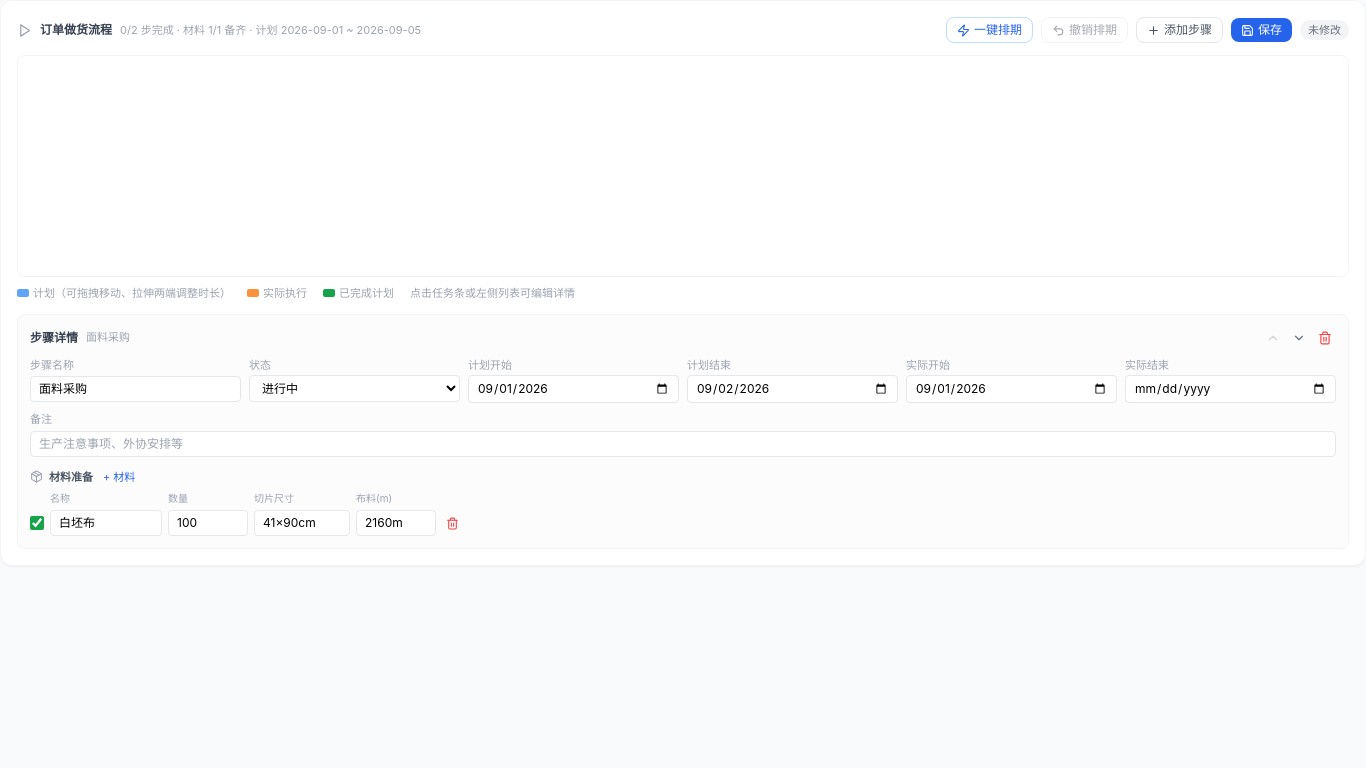
Test: 订单做货流程标签页 › 任务详情编辑 › 填写实际开始时间后状态联动为进行中
The width and height of the screenshot is (1366, 768).
Expected: the text "计划（可拖拽移动、拉伸两端调整时长）" is shown, [17,285,231,302]
// 清空实际开始 → 状态回退未开始
Step 1. Clear the date field below "实际开始" → (1012, 389), box [906,375,1117,403]
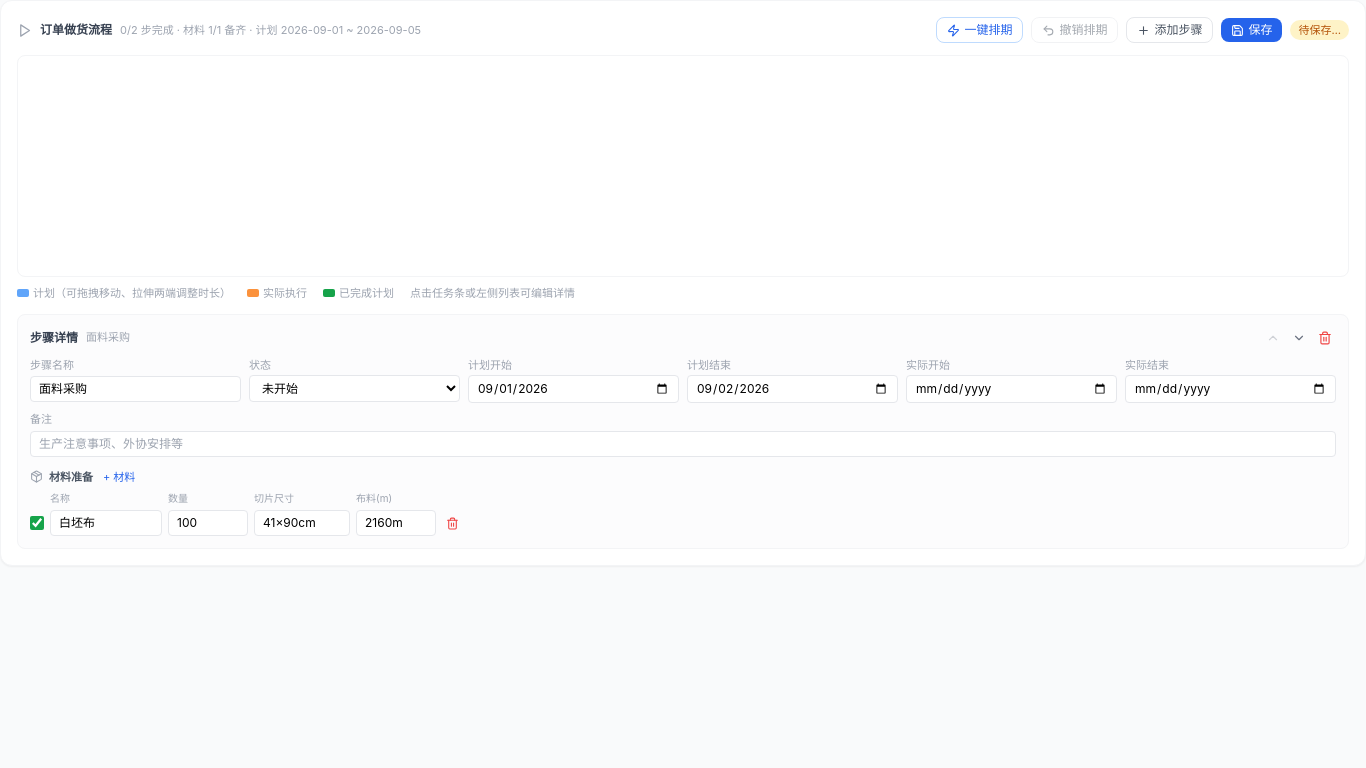
Now the dropdown showing "未开始" shows "未开始", box [249,375,460,402]
// 重新填写 → 状态联动为进行中
Step 2. Type "2026-09-02" into the date field below "实际开始" → (1012, 389), box [906,375,1117,403]
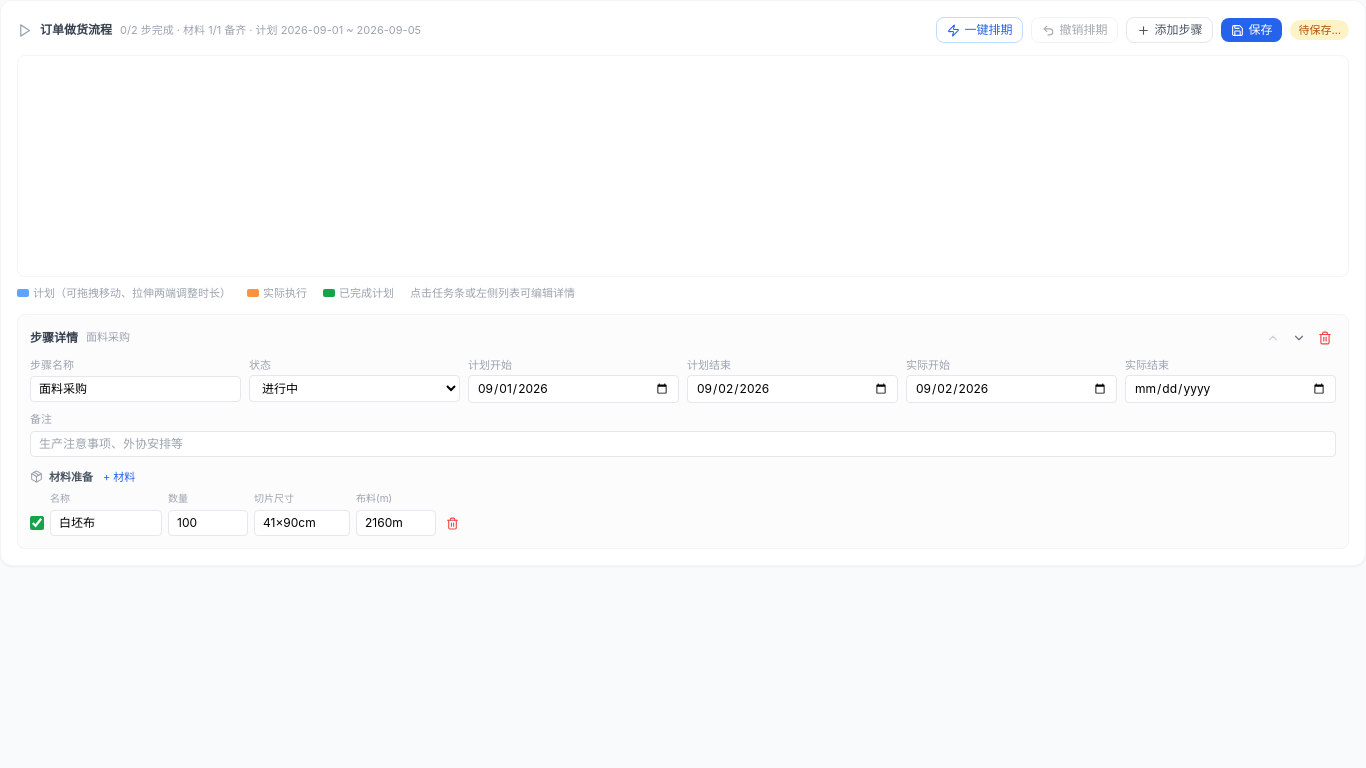
Now the dropdown showing "进行中" shows "进行中", box [249,375,460,402]
